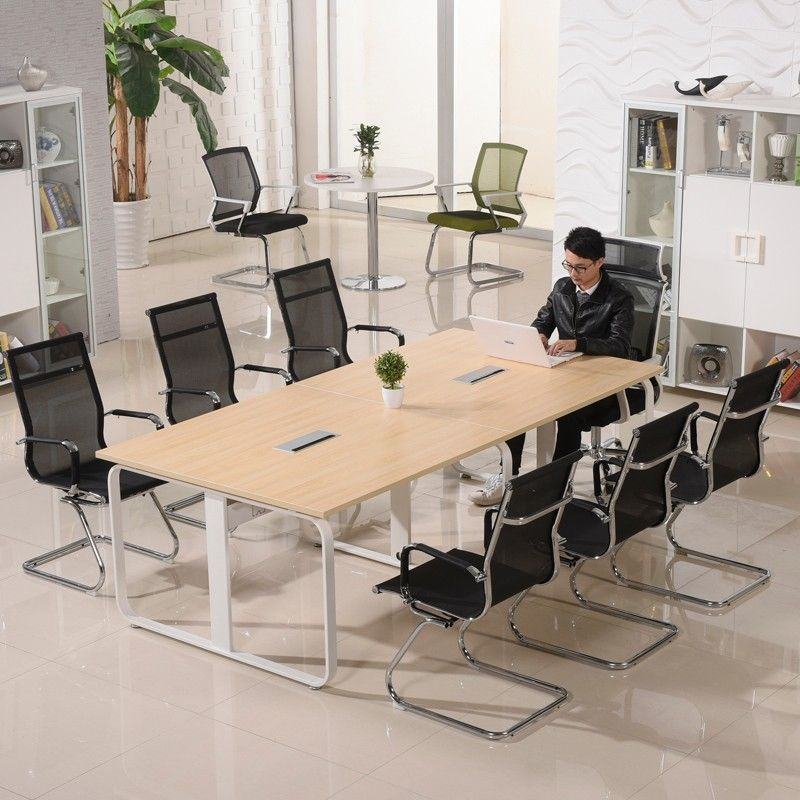conference_table: (96, 326, 665, 704)
